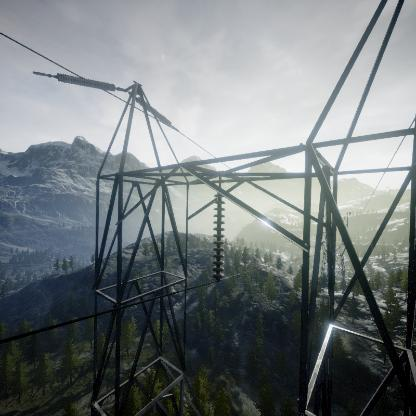insulator: (52, 69, 119, 93), (212, 191, 227, 280), (138, 96, 172, 128)
